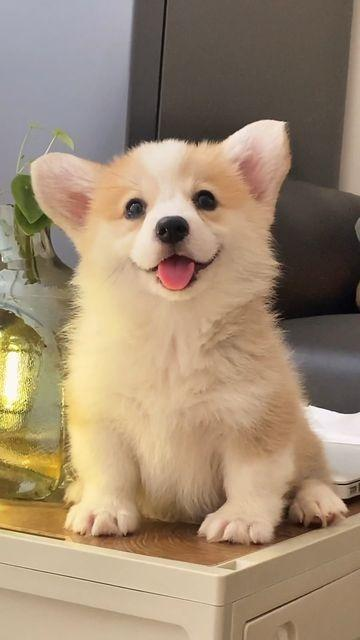puppy-dog: (29, 119, 350, 547)
